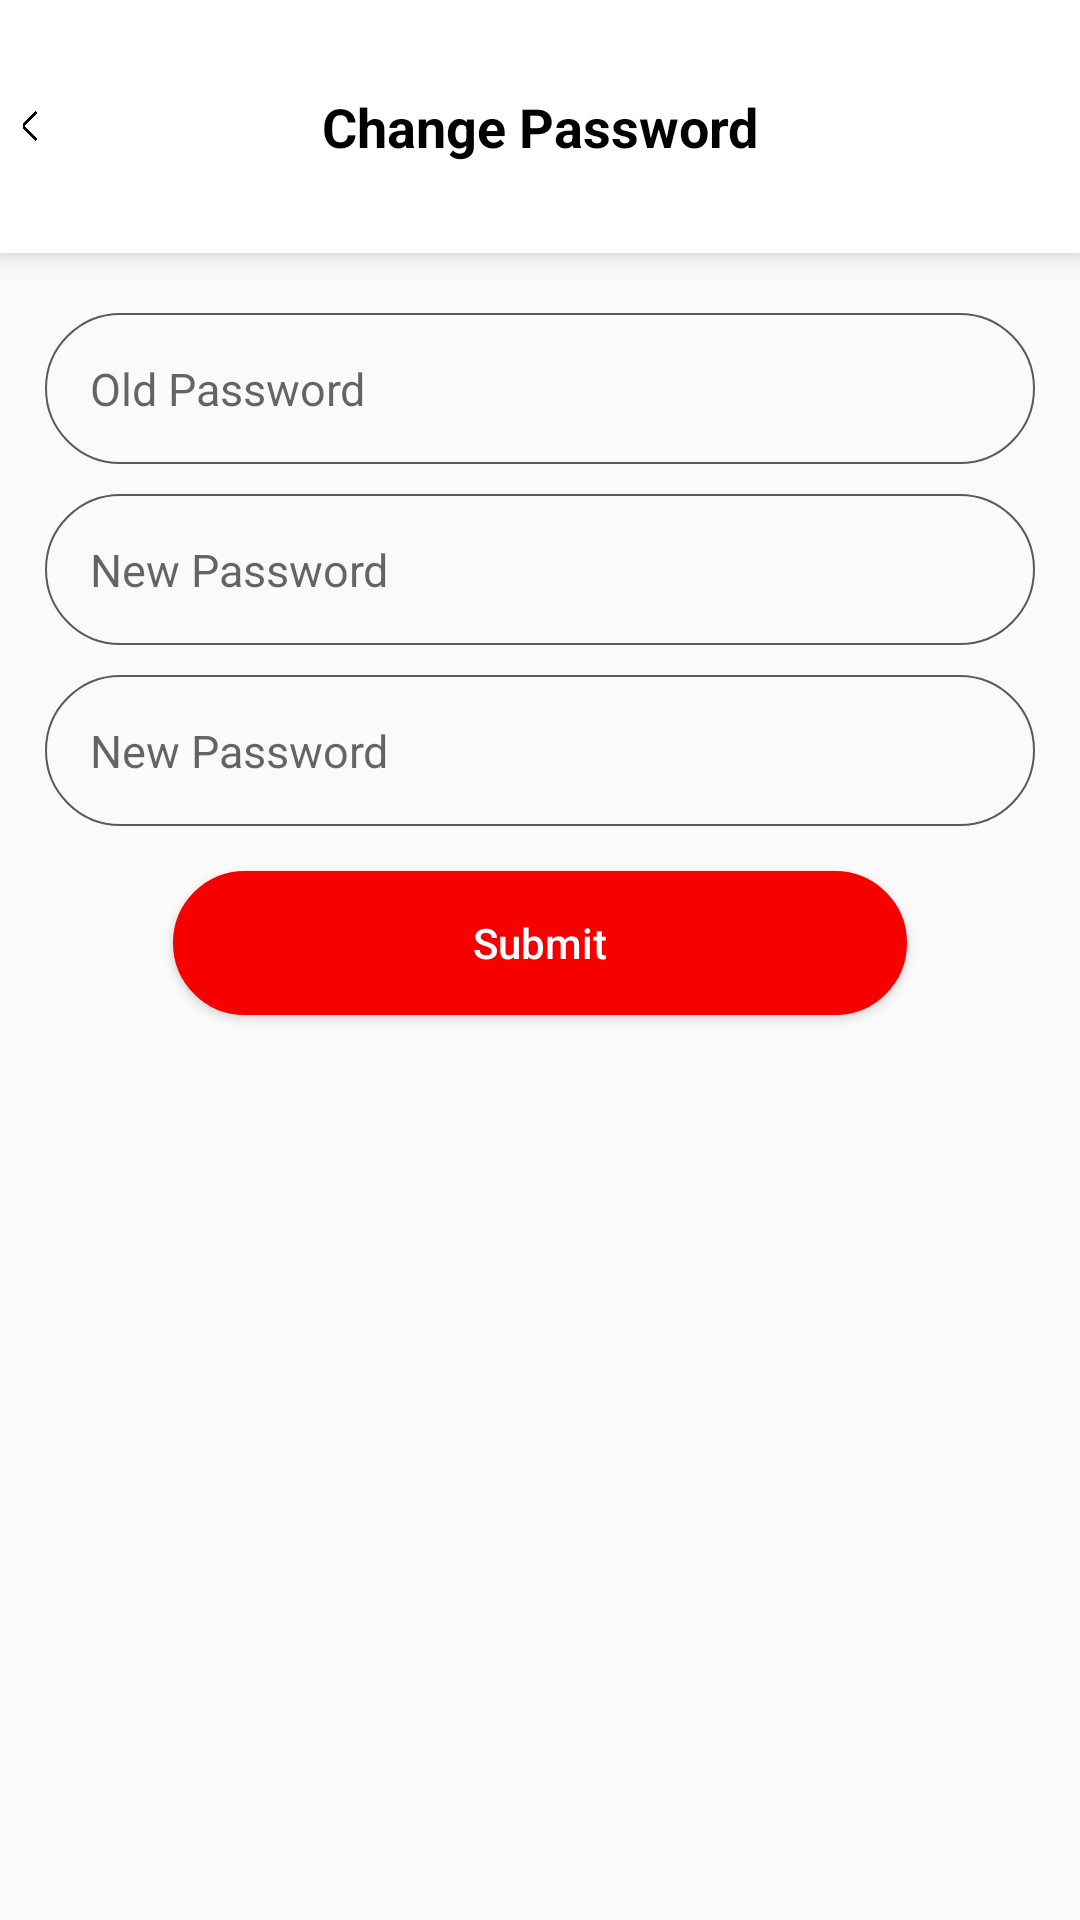

Screen size 1080x1920. Icon name, then its center in pixels as [x,y]:
back: [30,126]
